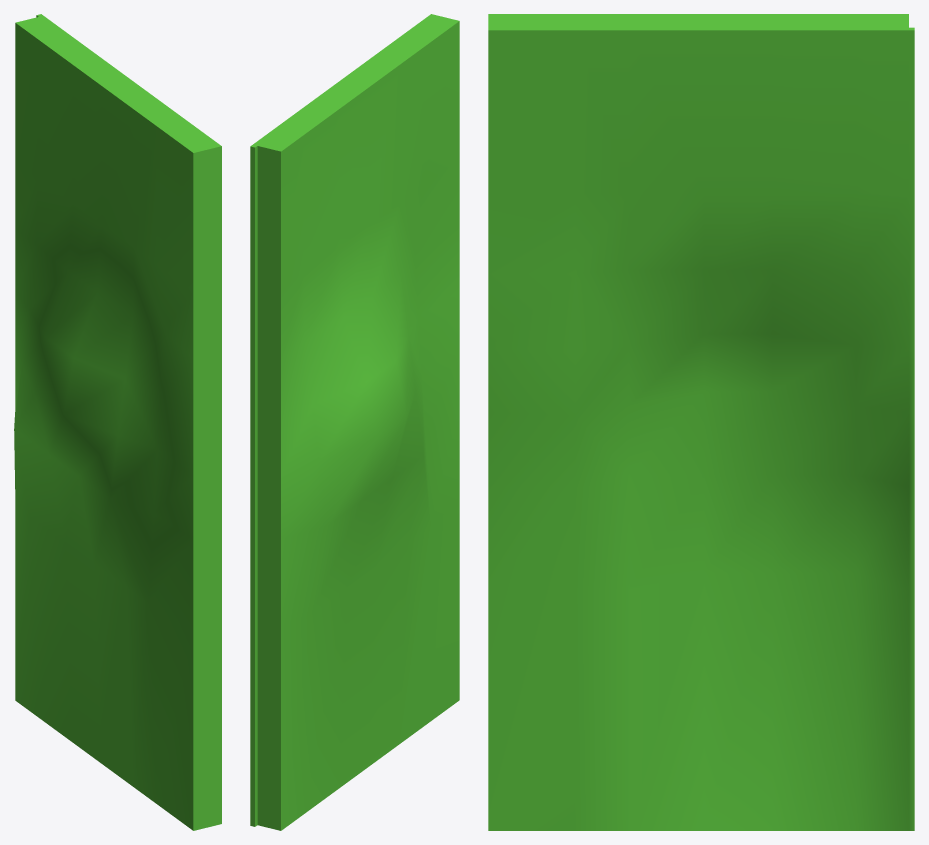
File: Door_Metal_02.fbx
The picture shows the model from 3 angles, left to right: view 1: azimuth 30°, elevation 25°; view 2: azimuth 150°, elevation 25°; view 3: azimuth 270°, elevation 25°; orthographic projection. The views are drawn at different scales.
Visible parts, largest first — view 1: Door_Metal_02; view 2: Door_Metal_02; view 3: Door_Metal_02.
Part boxes in pixels (left/top/right/bottom): Door_Metal_02: left=14, top=14, right=221, bottom=830; Door_Metal_02: left=250, top=14, right=459, bottom=830; Door_Metal_02: left=488, top=14, right=914, bottom=830.
Size of the model in its own units: 24.51 by 224 by 108.
